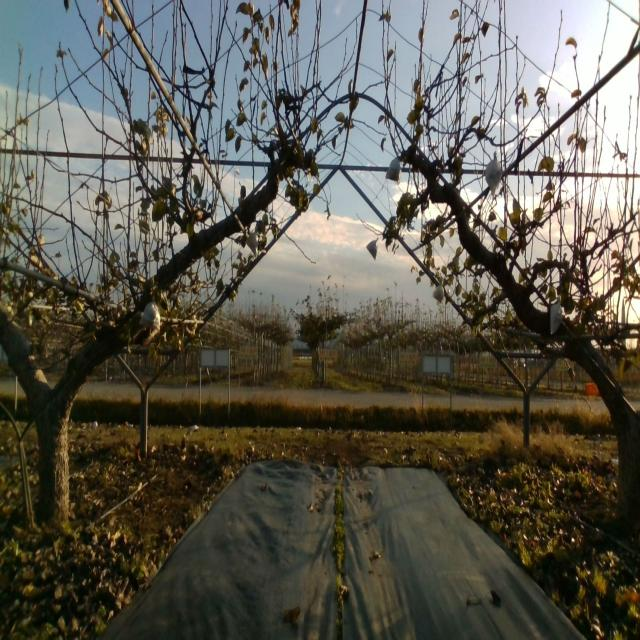pearbags: (138, 297, 162, 330), (484, 152, 502, 194), (550, 300, 563, 335), (385, 156, 402, 182), (246, 230, 260, 256), (432, 280, 445, 304), (366, 237, 378, 260)
